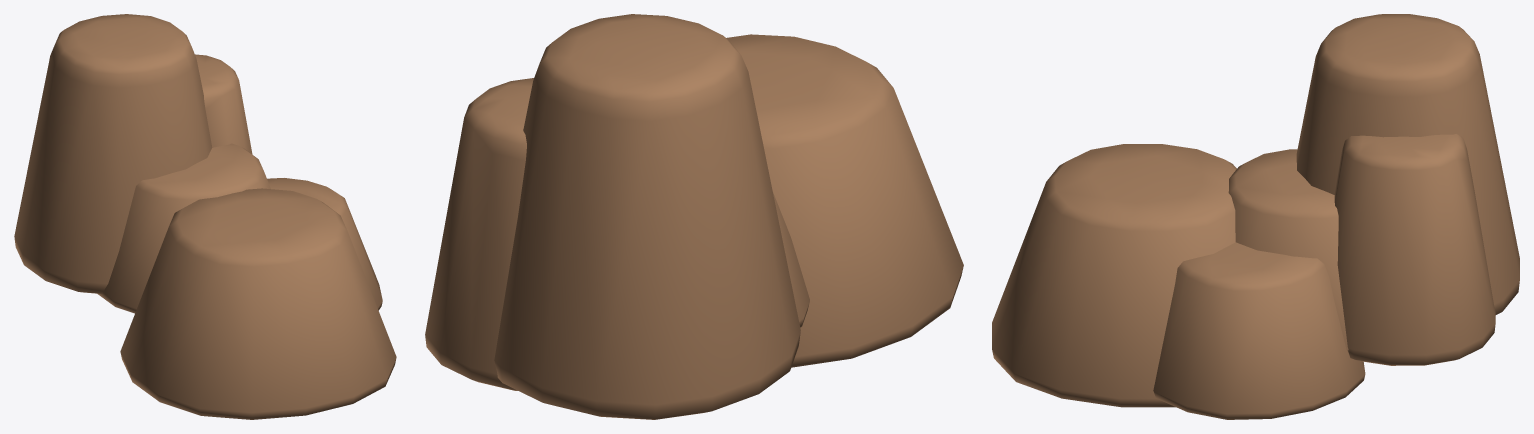
Rendered from decorLarge-snow-75.glb.
The picture shows the model from 3 angles, left to right: view 1: azimuth 30°, elevation 25°; view 2: azimuth 150°, elevation 25°; view 3: azimuth 270°, elevation 25°; orthographic projection. The views are drawn at different scales.
Parts seen in each view (by area): view 1: piece; view 2: piece; view 3: piece.
Part boxes in pixels (left/top/right/bottom): piece: left=14, top=14, right=396, bottom=419; piece: left=425, top=14, right=963, bottom=419; piece: left=992, top=14, right=1519, bottom=419.
Bounding box in the file's own units: 5.01 × 4.53 × 7.3.
